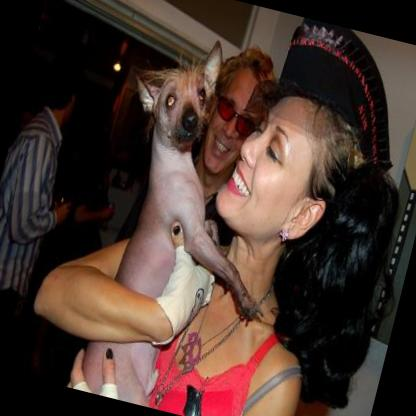Mexican_hairless: (57, 33, 318, 416)
